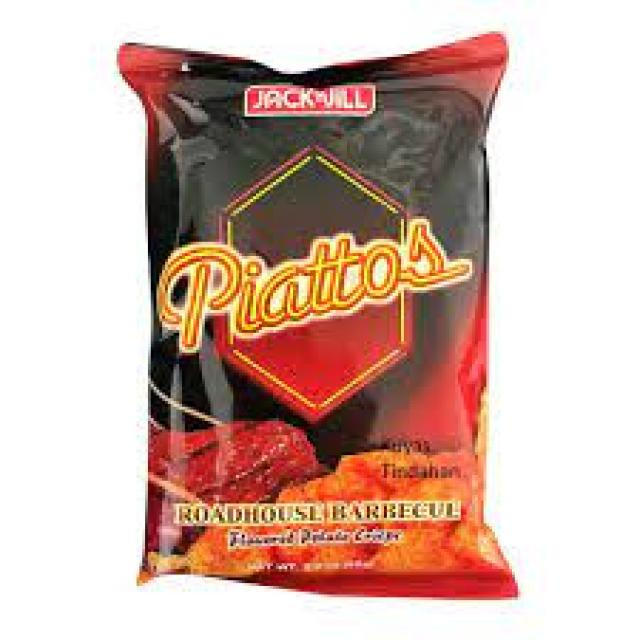junkfood wrapper: (119, 37, 516, 597)
